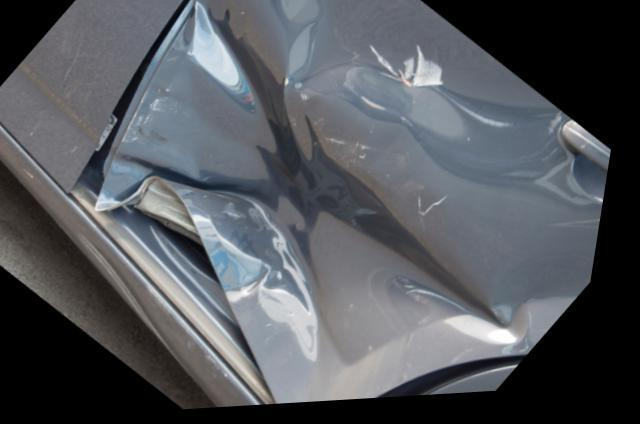dent: (113, 0, 574, 379)
